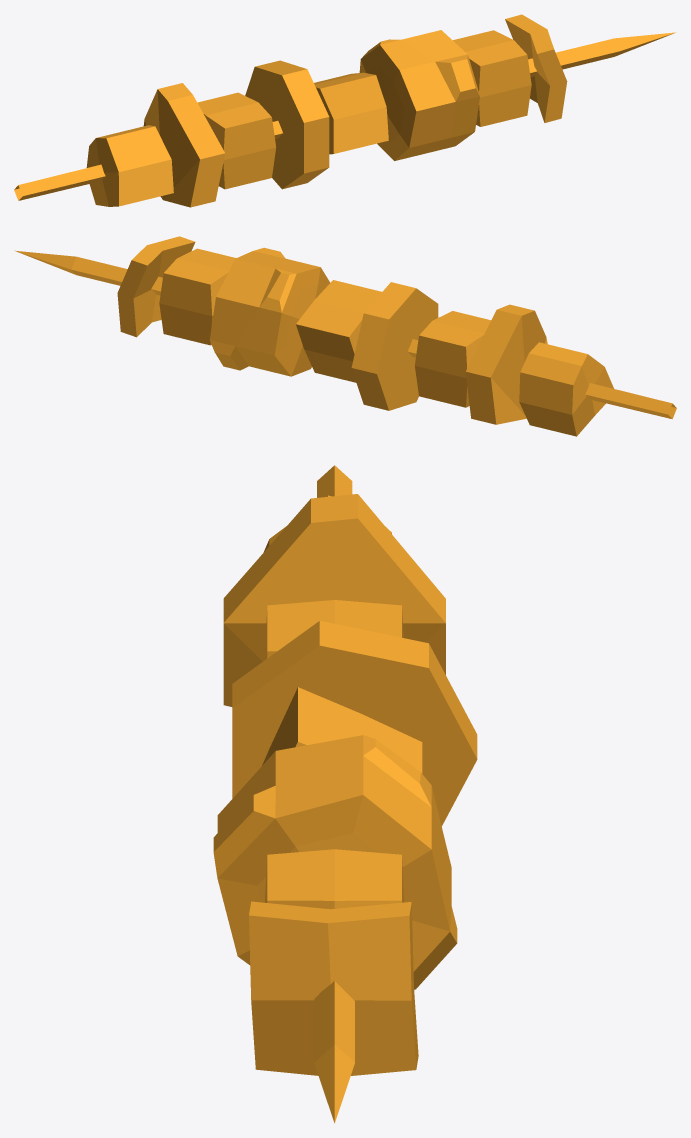
Rendered from SM_Skewer_Grilled_A.fbx.
3 views of the same model, one above another, from view 1: azimuth 30°, elevation 25°; view 2: azimuth 150°, elevation 25°; view 3: azimuth 270°, elevation 25° (orthographic). The views are drawn at different scales.
Visible parts, largest first — view 1: skewer-grilled-a; view 2: skewer-grilled-a; view 3: skewer-grilled-a.
Boxes of the visible parts, <box> form: skewer-grilled-a: <box>14,14,676,207</box>; skewer-grilled-a: <box>14,236,676,436</box>; skewer-grilled-a: <box>213,465,477,1123</box>.
Size of the model in its own units: 0.3699 by 0.0651 by 0.0642.
